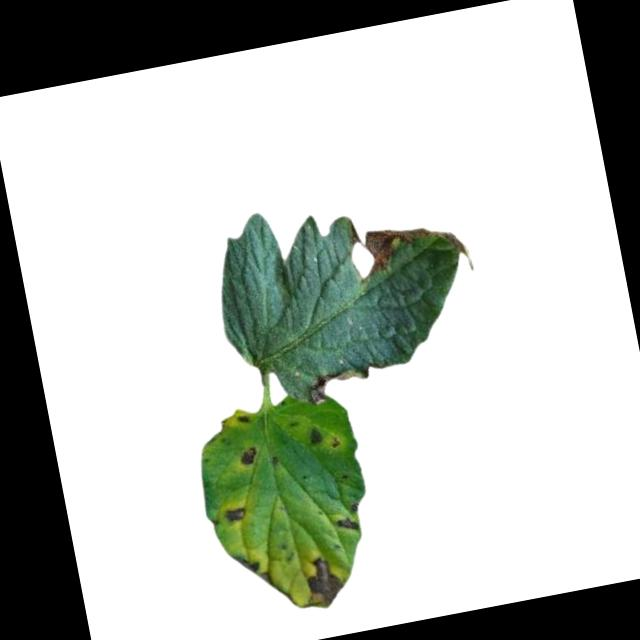Early_blight: (344, 202, 482, 293), (291, 551, 348, 614), (304, 362, 365, 407), (231, 551, 261, 578), (331, 515, 362, 535), (238, 444, 260, 469), (225, 505, 249, 526), (307, 425, 327, 449), (235, 415, 252, 428)
